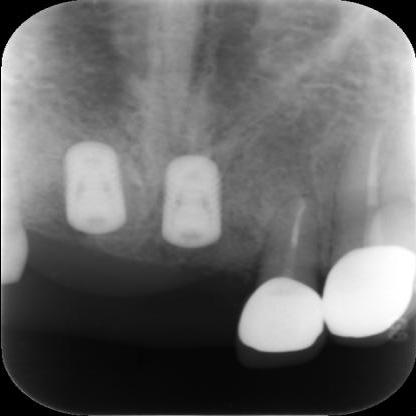ITI: (157, 152, 222, 251), (63, 141, 123, 236)
